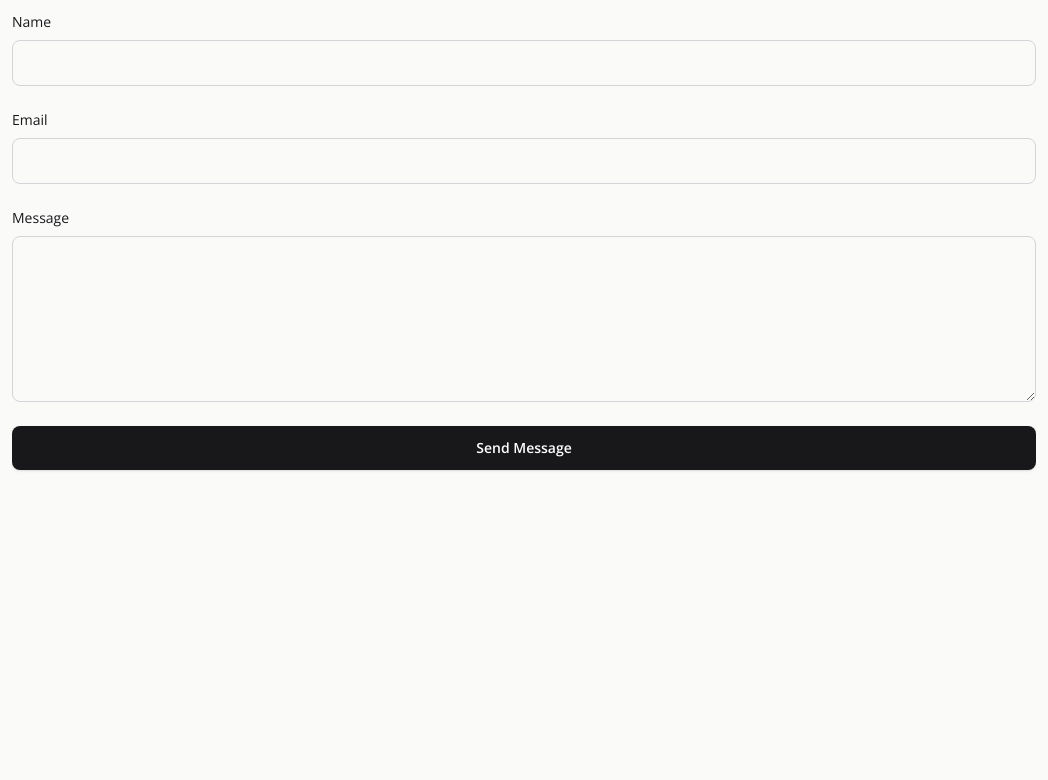
it: ContactForm › Success Flow › should display success message after send
The width and height of the screenshot is (1048, 780).
Step 1. Type "John Doe" into the field labelled "Name" → (524, 63), box [12,40,1036,86]
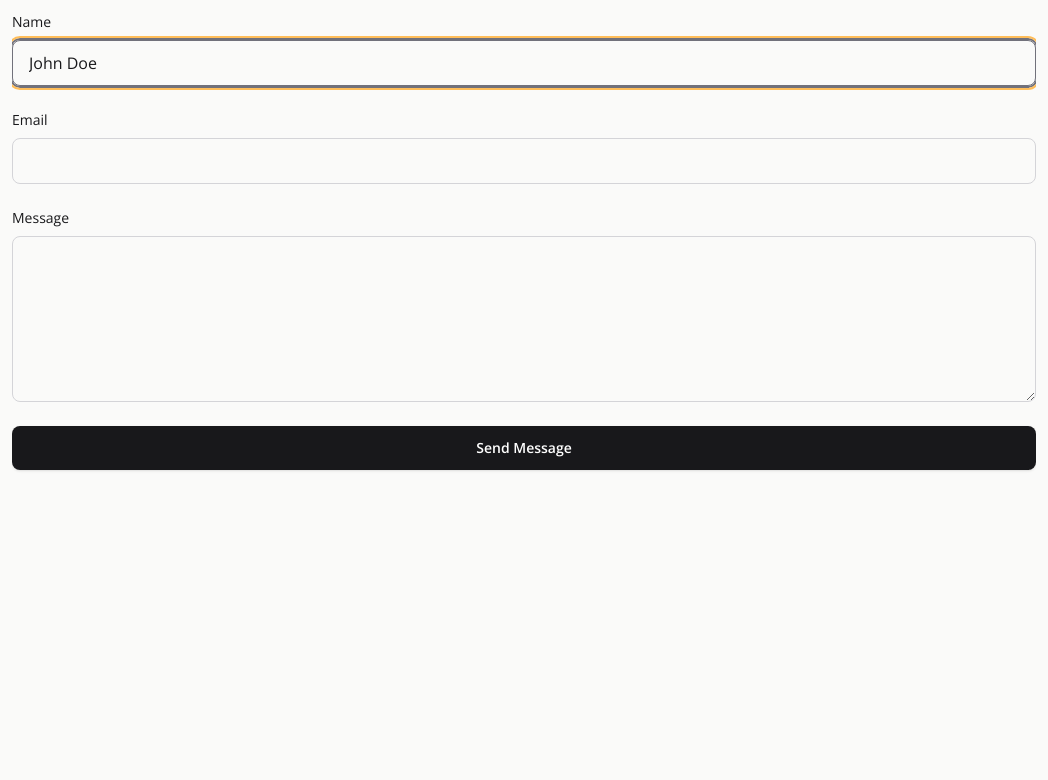
Step 2. Type "john@example.com" into the field labelled "Email" → (524, 161), box [12,138,1036,184]
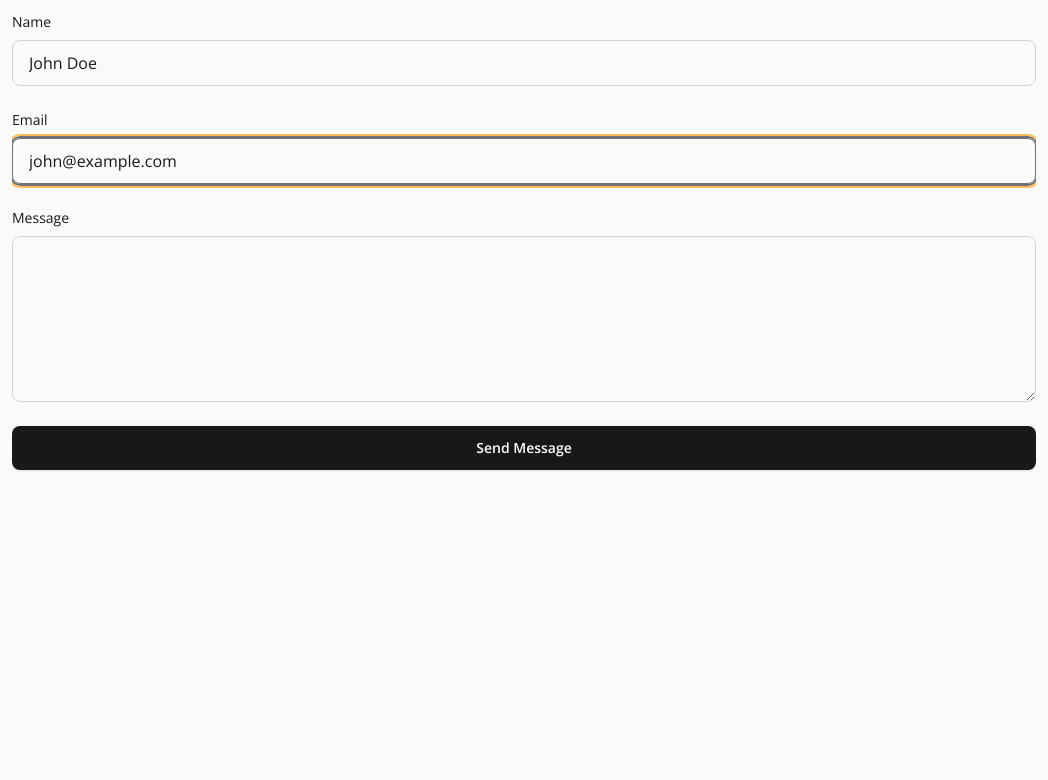
Step 3. Type "Test message" into the text box labelled "Message" → (524, 319), box [12,236,1036,402]
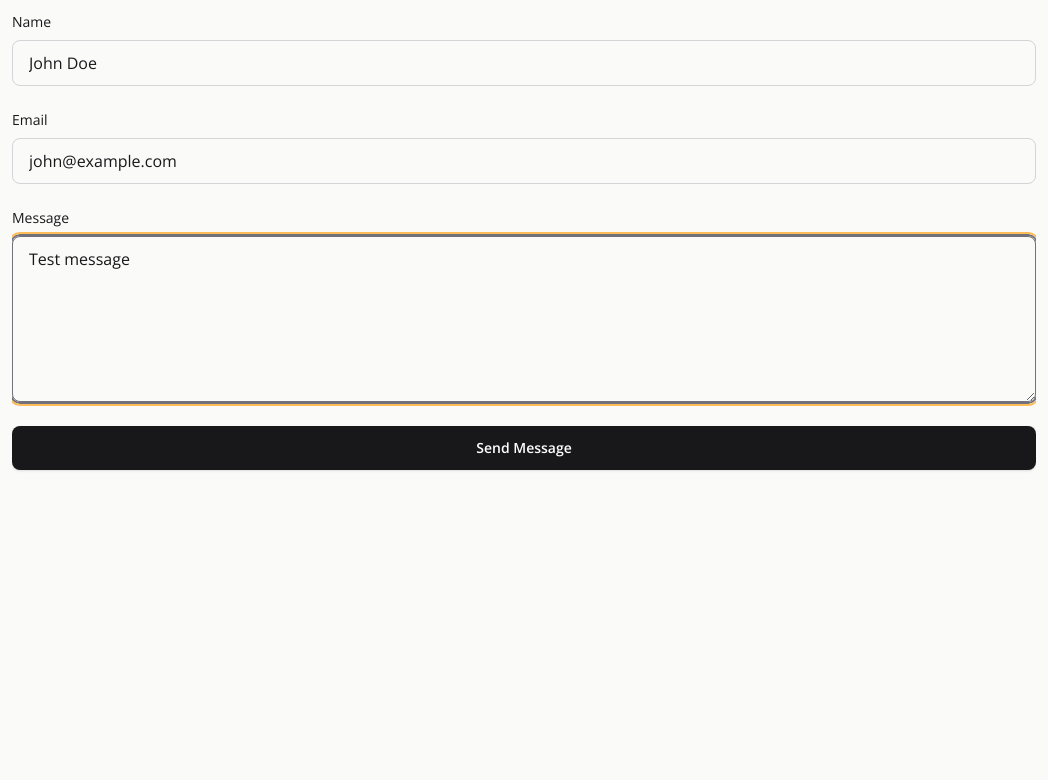
Step 4. Click the button "Send Message" → (524, 448), box [12,426,1036,470]
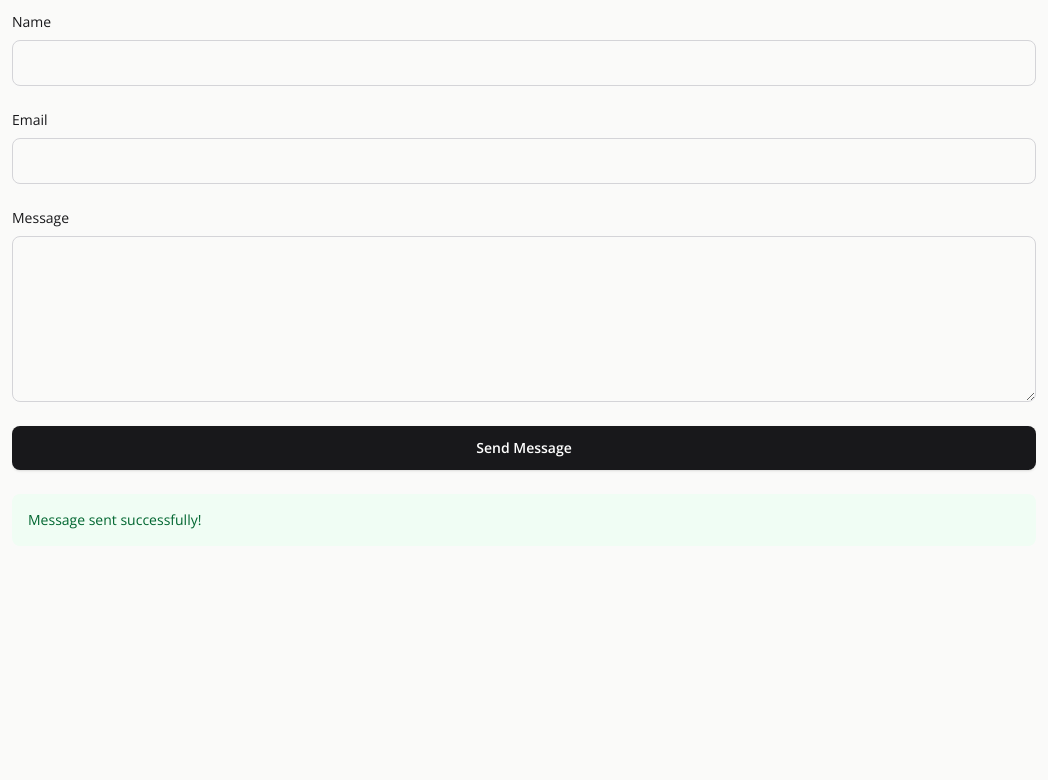
Now the text "Message sent successfully!" is shown, box [12,494,1036,546]
